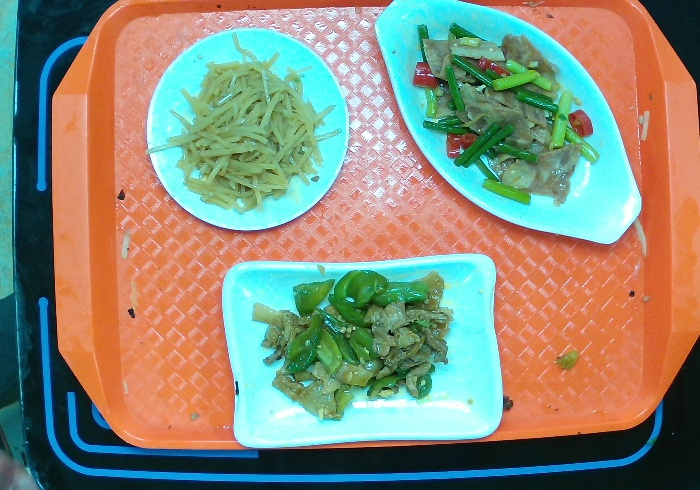RJxy-Si_Fang_Ao_Bian_Wan: (218, 254, 507, 451)
RJxy-Xiao_Yuan_Die: (142, 23, 351, 231)
RJxy-Yu_Pan: (375, 1, 648, 247)
